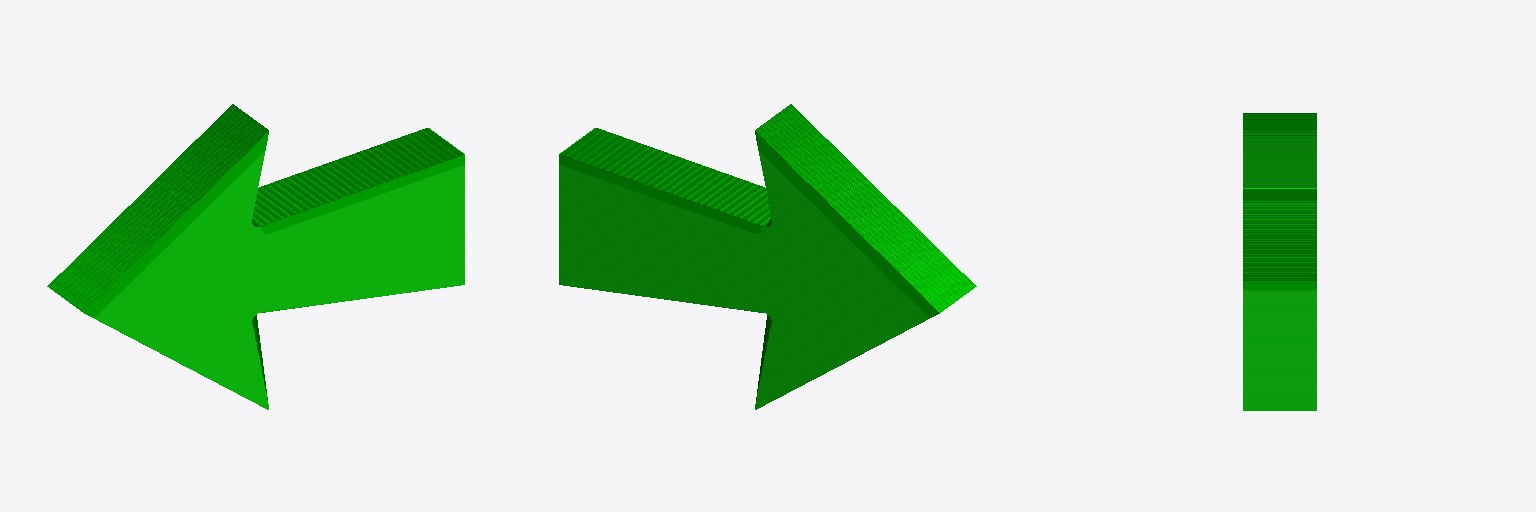
3 renders of one model, left to right at view 1: azimuth 30°, elevation 25°; view 2: azimuth 150°, elevation 25°; view 3: azimuth 270°, elevation 25°, orthographic.
Visible parts, largest first — view 1: Object.1; view 2: Object.1; view 3: Object.1.
Part boxes in pixels (bbox=[...]): Object.1: bbox=[47, 104, 464, 409]; Object.1: bbox=[559, 104, 976, 409]; Object.1: bbox=[1243, 113, 1316, 410].
Bounding box in the file's own units: 138 × 96.77 × 22.86.
1 materials, 1 textured.